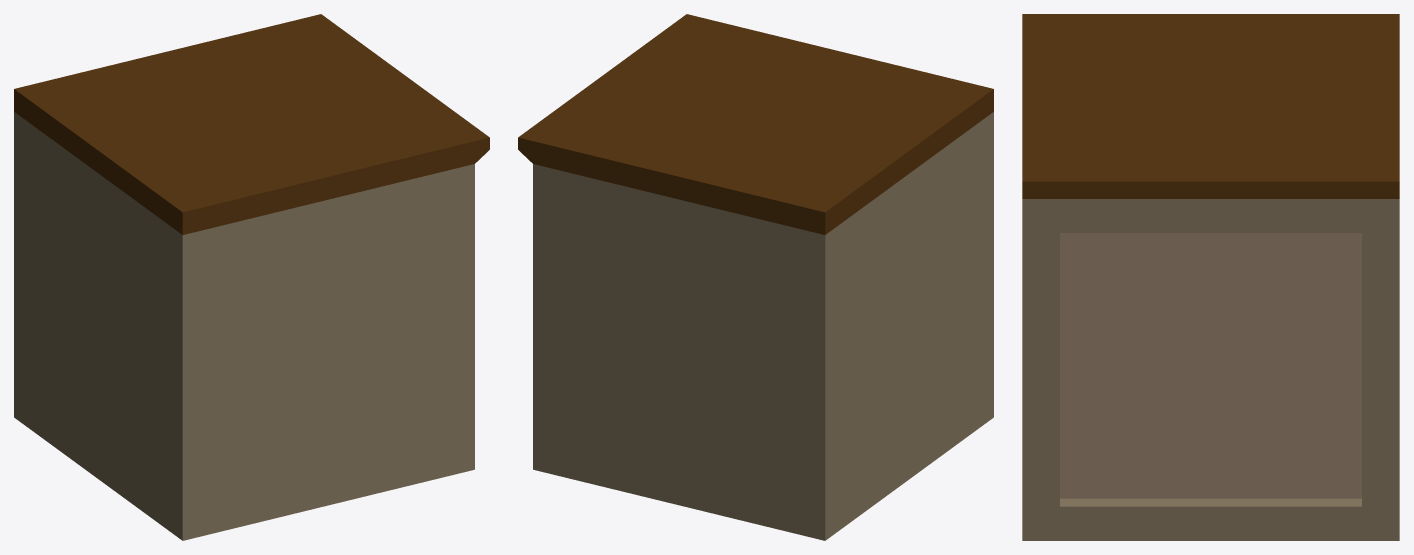
The model's file is counter.fbx.
3 views of the same model, side by side, from view 1: azimuth 30°, elevation 25°; view 2: azimuth 150°, elevation 25°; view 3: azimuth 270°, elevation 25° (orthographic). The views are drawn at different scales.
Visible parts, largest first — view 1: counter; view 2: counter; view 3: counter.
Part boxes in pixels (x1,y1,x2,y2): counter: (14, 14, 489, 540); counter: (518, 14, 993, 540); counter: (1022, 14, 1399, 540).
Bounding box in the file's own units: 210 × 215 × 200.
